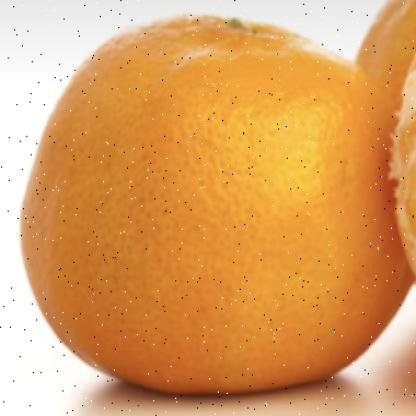fresh: (23, 14, 400, 394)
